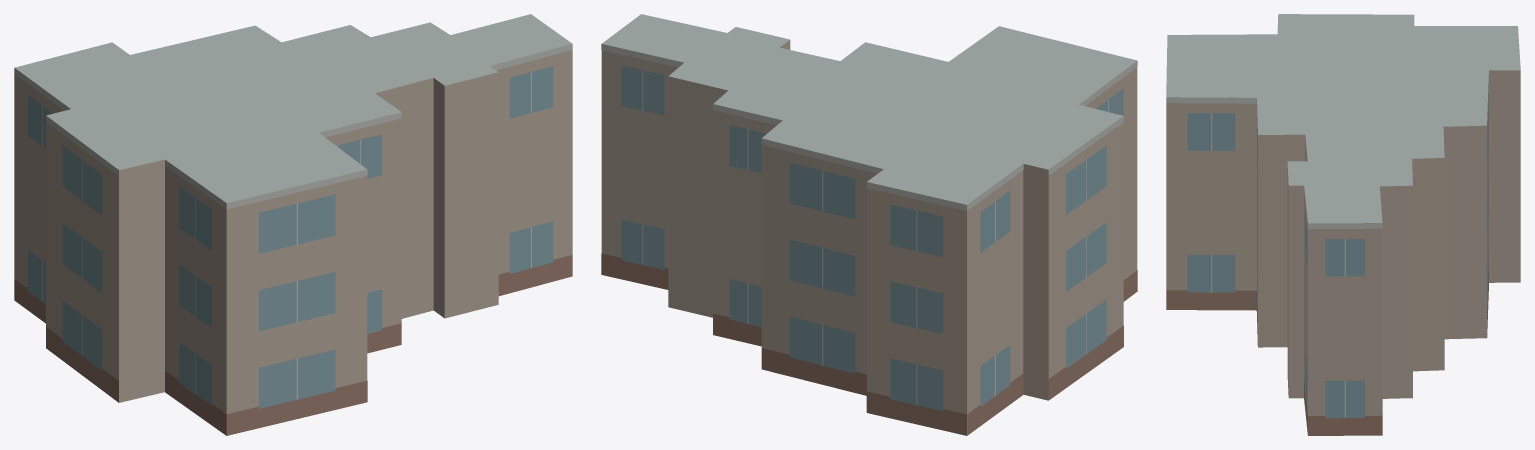
File: survey-upis-32711028.glb
3 renders of one model, left to right at view 1: azimuth 30°, elevation 25°; view 2: azimuth 150°, elevation 25°; view 3: azimuth 270°, elevation 25°, orthographic. The views are drawn at different scales.
Visible parts, largest first — view 1: survey-upis-32711028.tmp; view 2: survey-upis-32711028.tmp; view 3: survey-upis-32711028.tmp.
Part boxes in pixels (bbox=[...]): survey-upis-32711028.tmp: bbox=[14, 14, 572, 435]; survey-upis-32711028.tmp: bbox=[601, 14, 1137, 435]; survey-upis-32711028.tmp: bbox=[1166, 14, 1520, 435].
Size of the model in its own units: 19.24 by 9.1 by 13.77.
